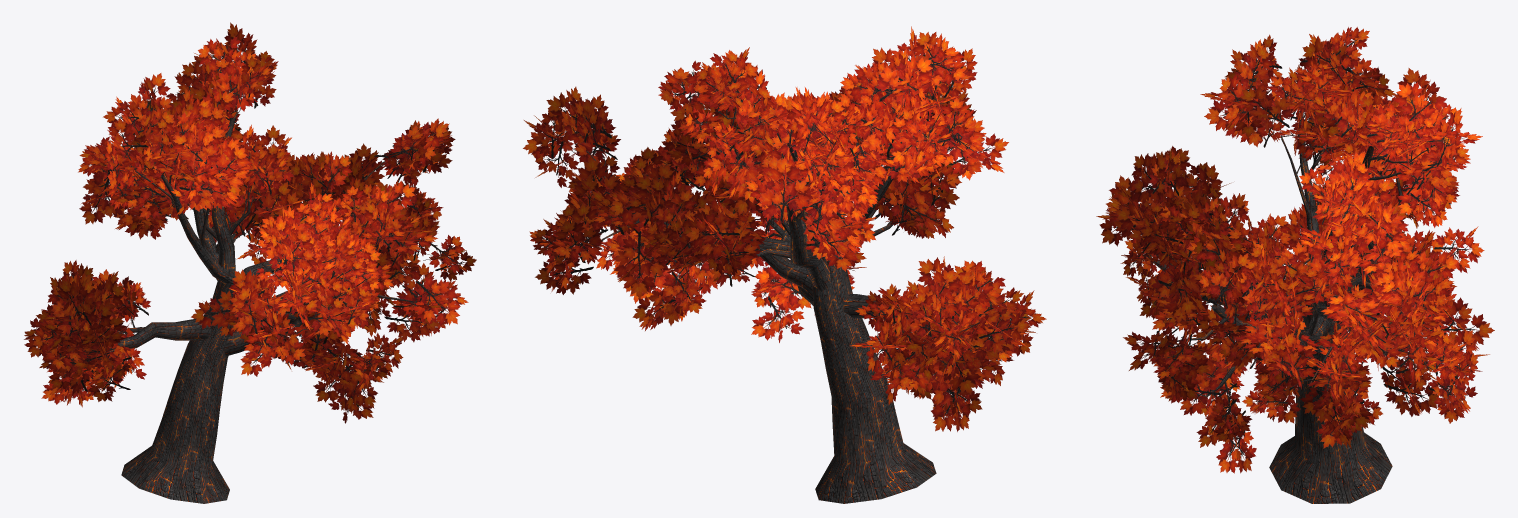
Rendered from nature-red-fireheart-tree_v4.glb.
3 views of the same model, side by side, from view 1: azimuth 30°, elevation 25°; view 2: azimuth 150°, elevation 25°; view 3: azimuth 270°, elevation 25° (orthographic). The views are drawn at different scales.
Visible parts, largest first — view 1: nature-red-fireheart-tree; view 2: nature-red-fireheart-tree; view 3: nature-red-fireheart-tree.
Boxes of the visible parts, x1=… form: nature-red-fireheart-tree: x1=24, y1=22, x2=476, y2=503; nature-red-fireheart-tree: x1=523, y1=26, x2=1046, y2=503; nature-red-fireheart-tree: x1=1096, y1=27, x2=1494, y2=503.
Bounding box in the file's own units: 14.84 × 12.92 × 10.91.
2 materials, 2 textured.
